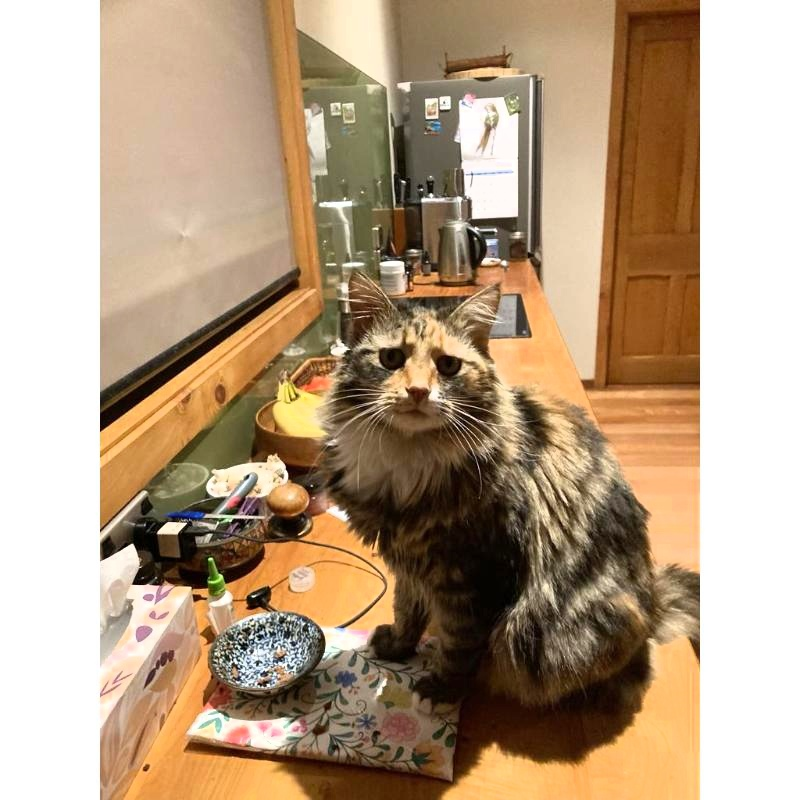red: (320, 269, 699, 715)
